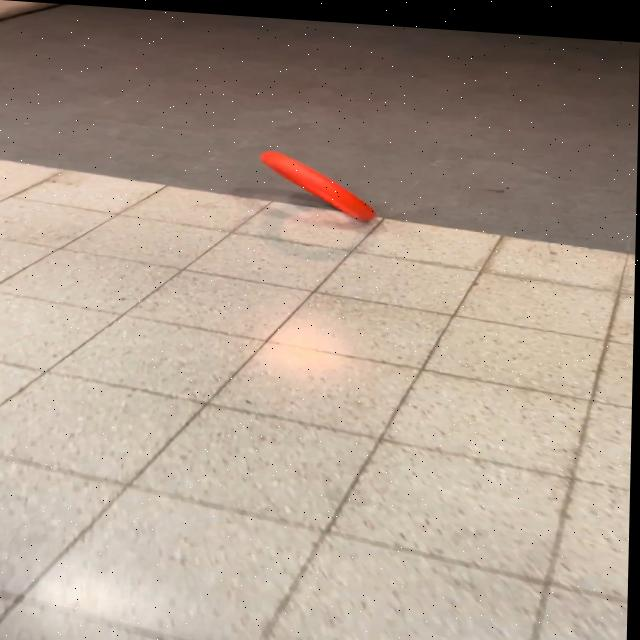note: (257, 144, 382, 220)
